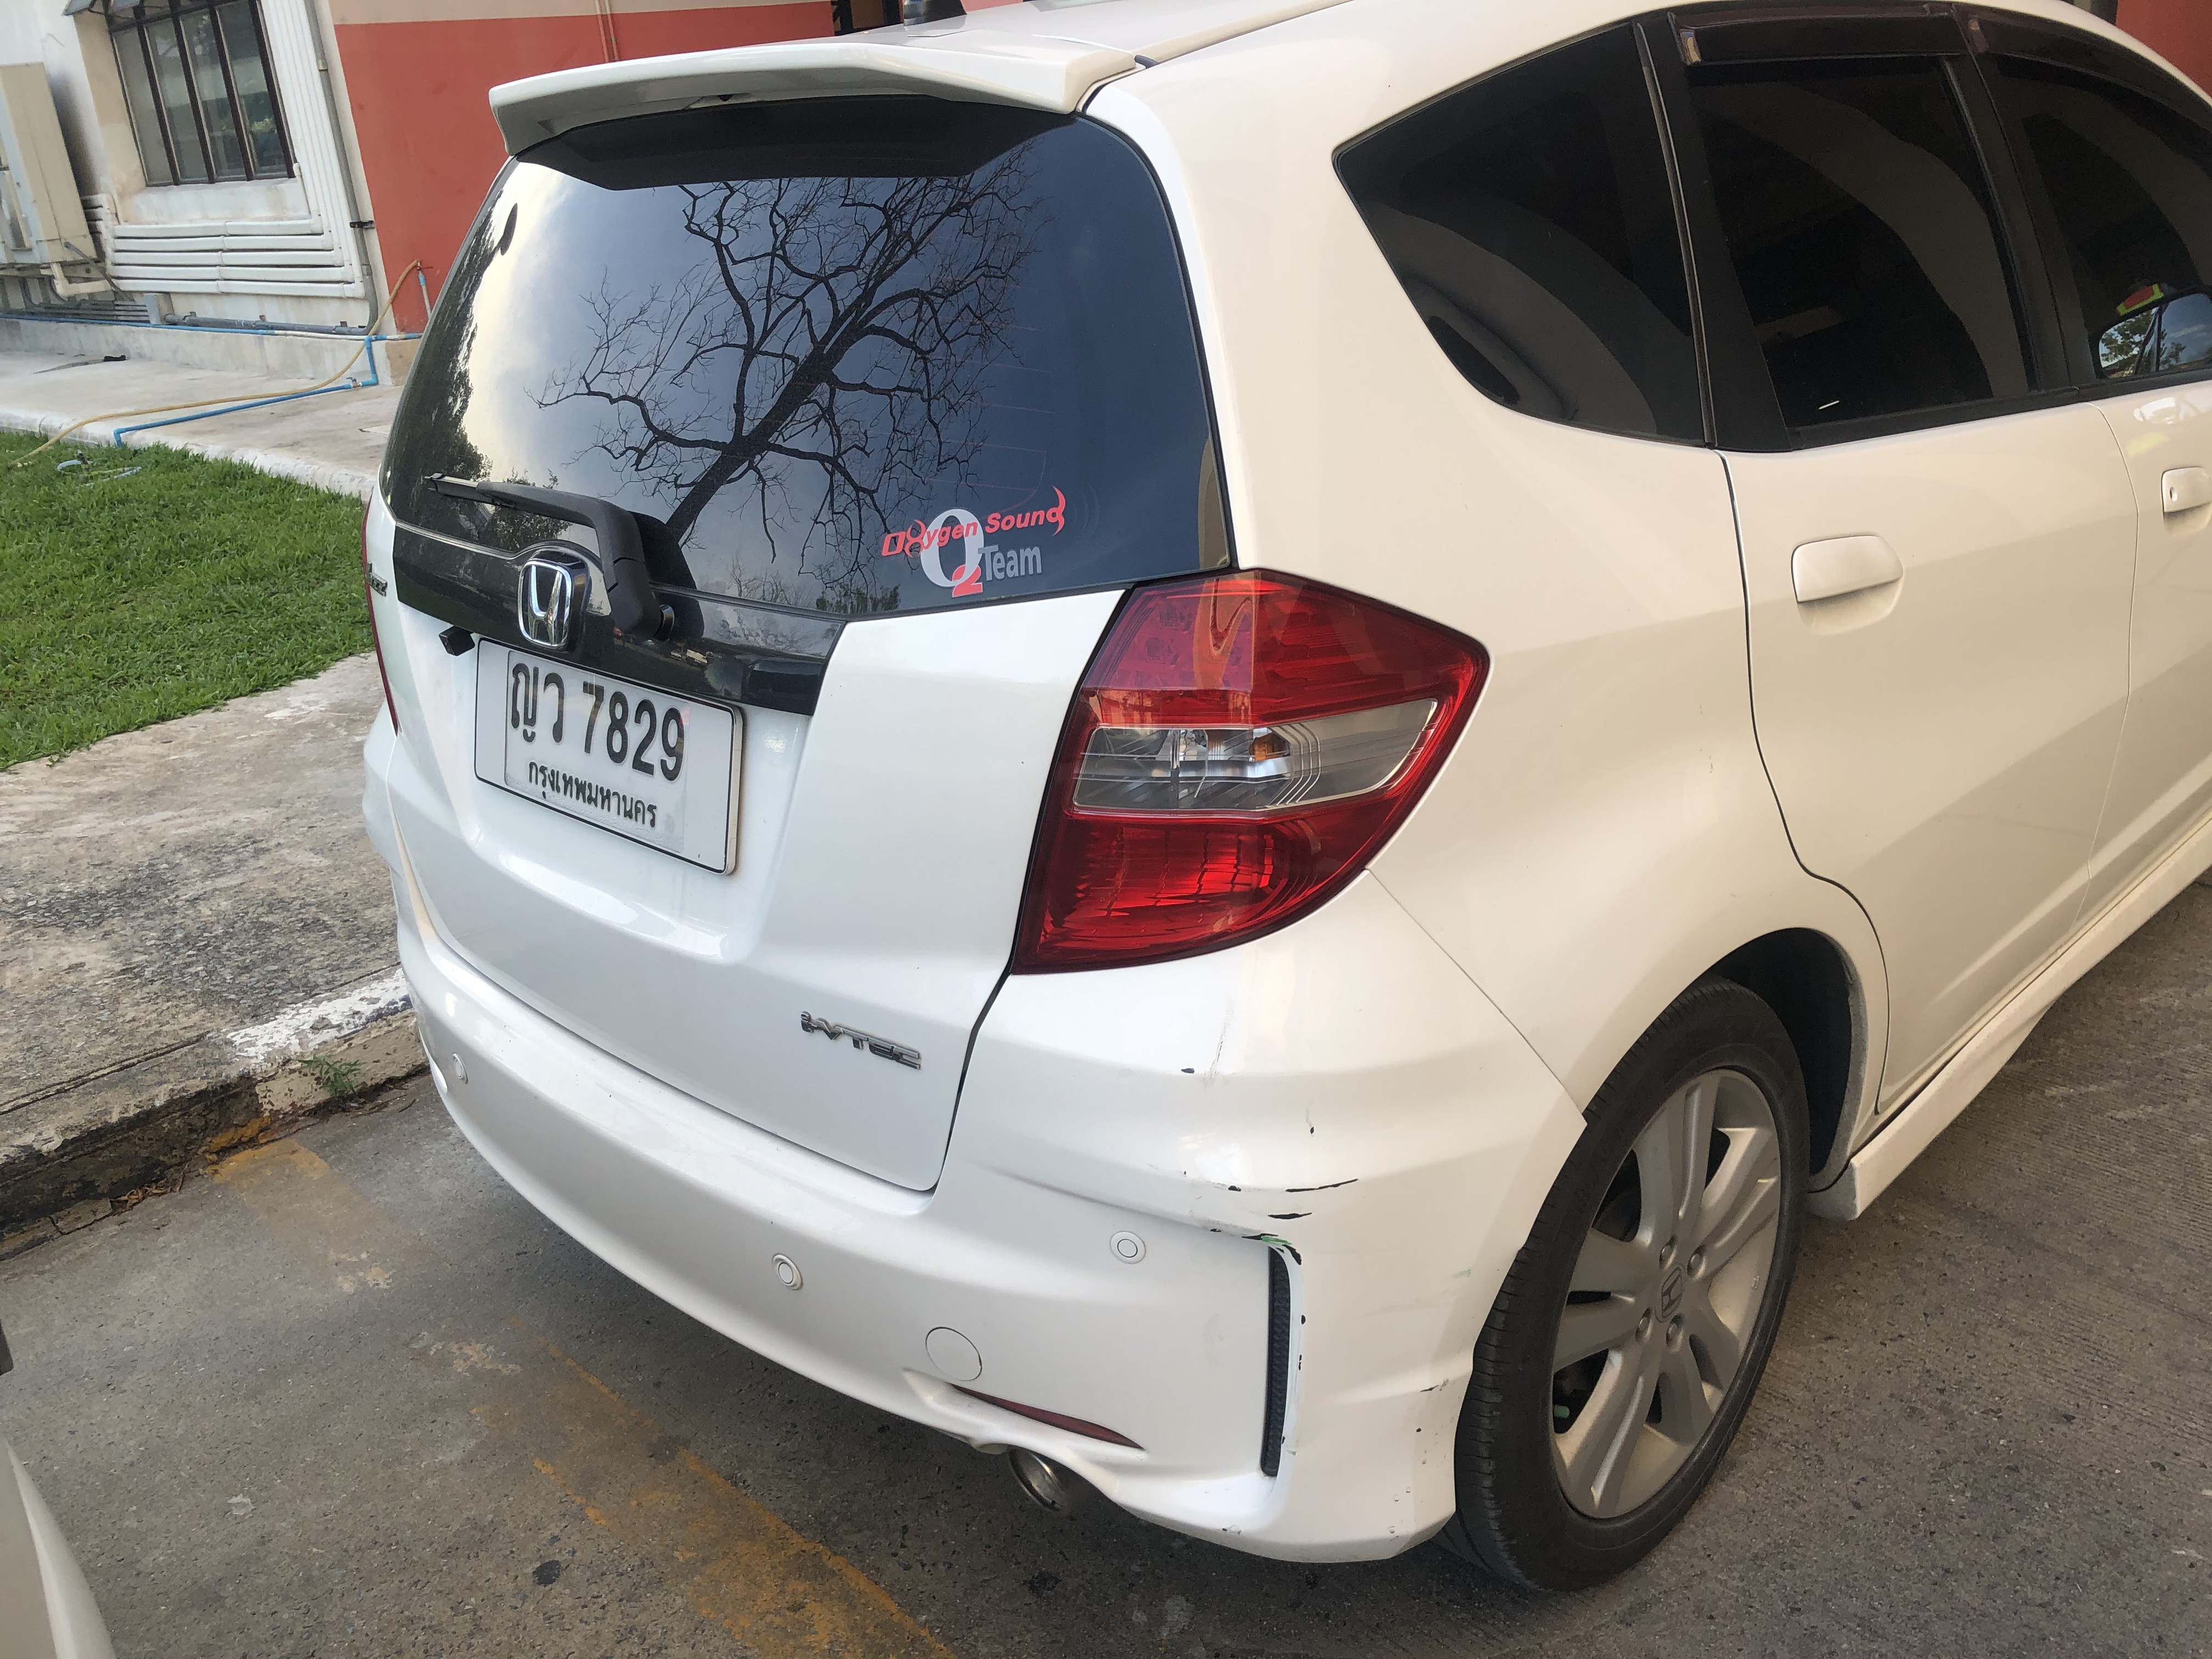in: (503, 653, 726, 868)
out: (474, 619, 742, 885)
